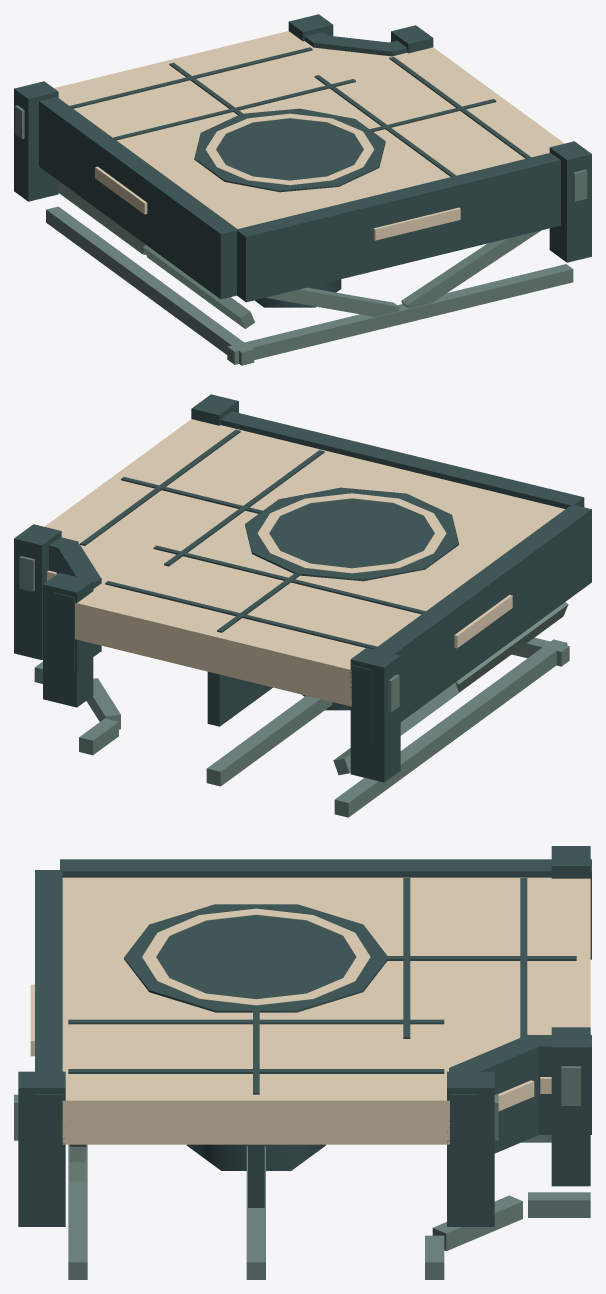
The model's file is Junction_L_lab2.glb.
3 renders of one model, top to bottom at view 1: azimuth 30°, elevation 25°; view 2: azimuth 150°, elevation 25°; view 3: azimuth 270°, elevation 25°, orthographic. The views are drawn at different scales.
Parts seen in each view (by area): view 1: Junction_L; view 2: Junction_L; view 3: Junction_L.
Boxes of the visible parts, left/top/right/bottom form: Junction_L: left=14, top=14, right=591, bottom=365; Junction_L: left=14, top=394, right=591, bottom=817; Junction_L: left=14, top=846, right=591, bottom=1279.
Size of the model in its own units: 4.15 by 1.58 by 4.15.
